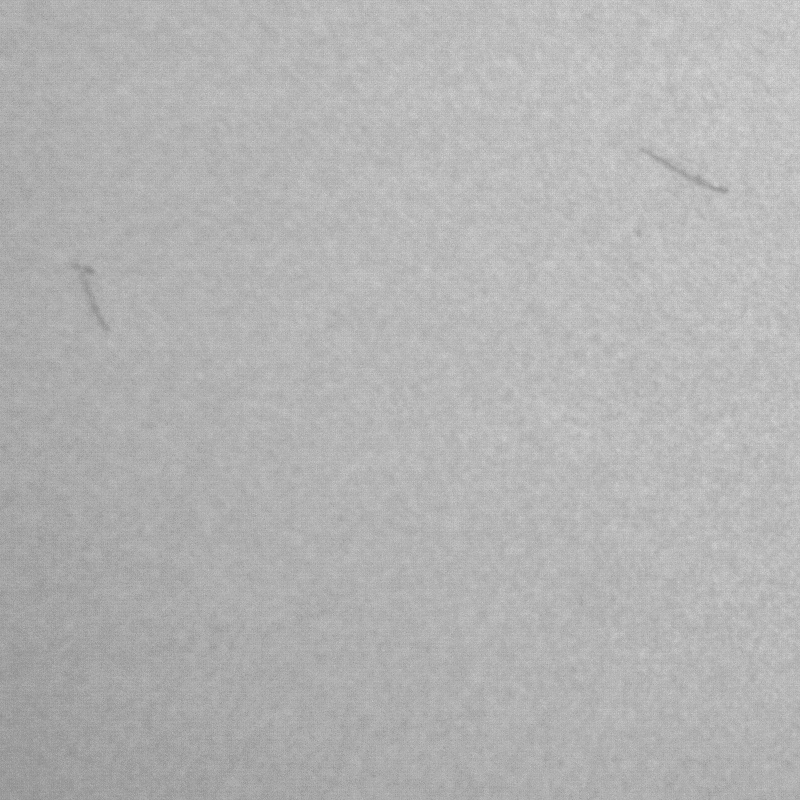defect: (641, 147, 734, 194), (74, 261, 112, 333)
